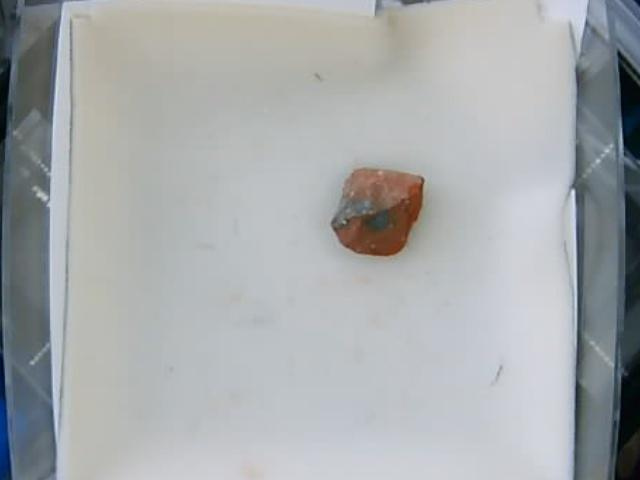Brisk: (331, 163, 422, 255)
